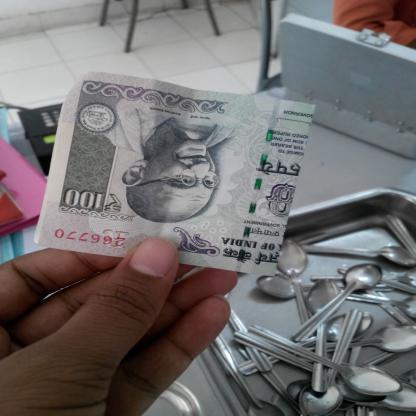Old100Front: (33, 71, 317, 277)
